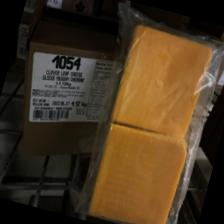cheese: (108, 23, 214, 142), (83, 119, 190, 224)
